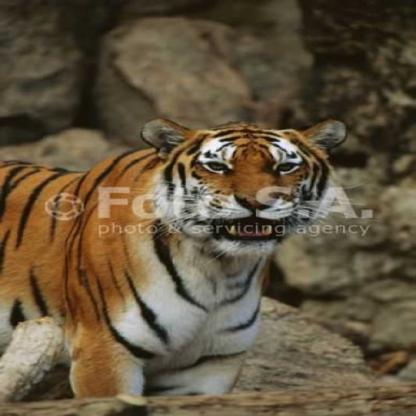Tiger: (0, 85, 353, 415)
